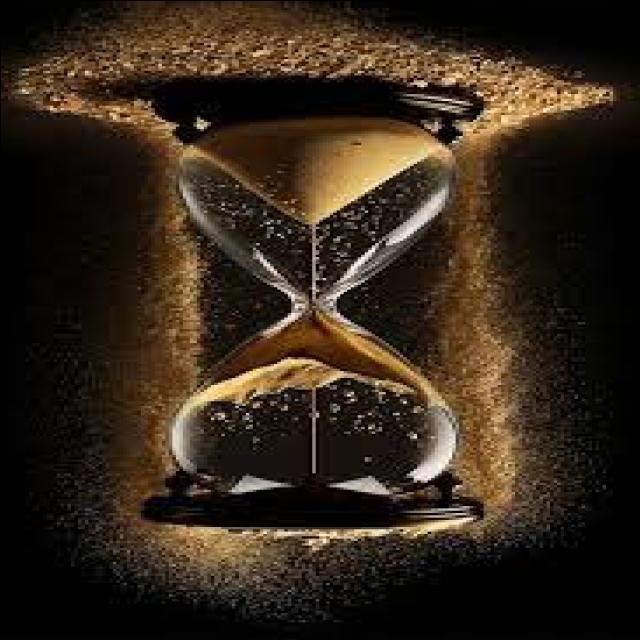clock: (132, 76, 494, 540)
